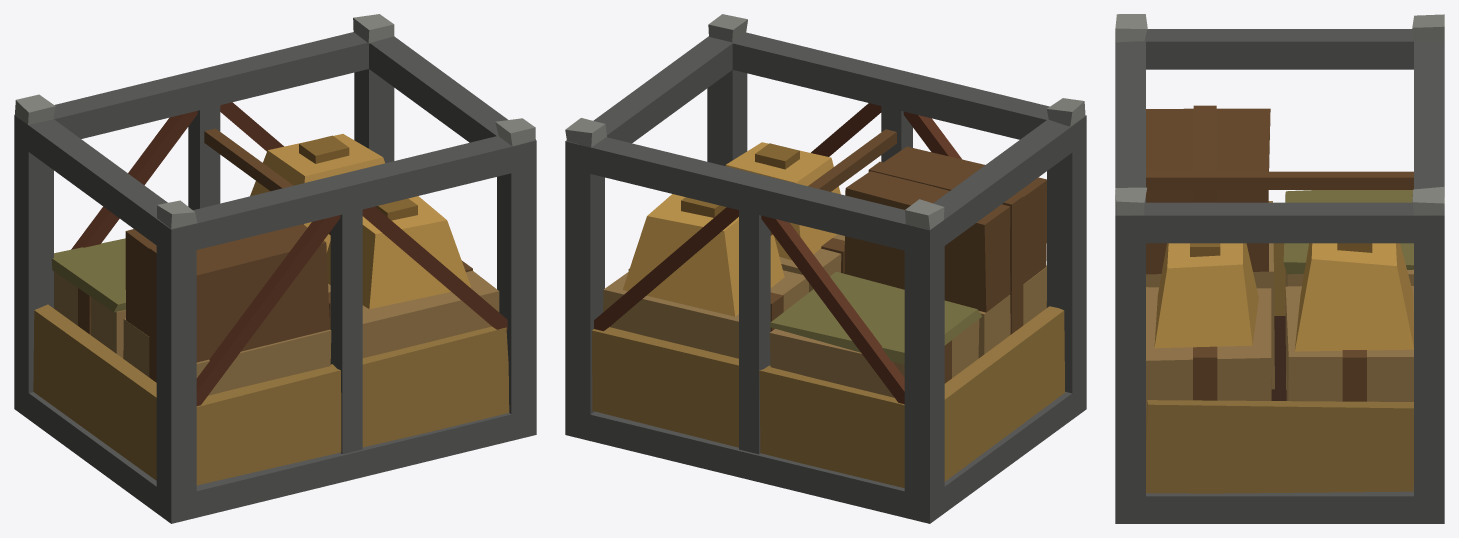
Rendered from cargo_hauling_rack_loaded.glb.
The picture shows the model from 3 angles, left to right: view 1: azimuth 30°, elevation 25°; view 2: azimuth 150°, elevation 25°; view 3: azimuth 270°, elevation 25°; orthographic projection. The views are drawn at different scales.
Parts seen in each view (by area): view 1: cargo_hauling_rack_loaded; view 2: cargo_hauling_rack_loaded; view 3: cargo_hauling_rack_loaded.
Part boxes in pixels (<box>): cargo_hauling_rack_loaded: <box>14,14,536,523</box>; cargo_hauling_rack_loaded: <box>565,14,1086,523</box>; cargo_hauling_rack_loaded: <box>1115,14,1444,523</box>.
Size of the model in its own units: 1.3 by 1.05 by 0.968.
